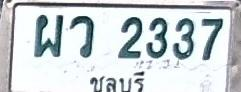2: (118, 16, 142, 59)
3: (172, 17, 194, 60), (146, 16, 168, 58)
7: (201, 18, 223, 60)
A28: (34, 14, 64, 57)
A37: (69, 15, 94, 58)
CBI: (85, 70, 151, 92)
